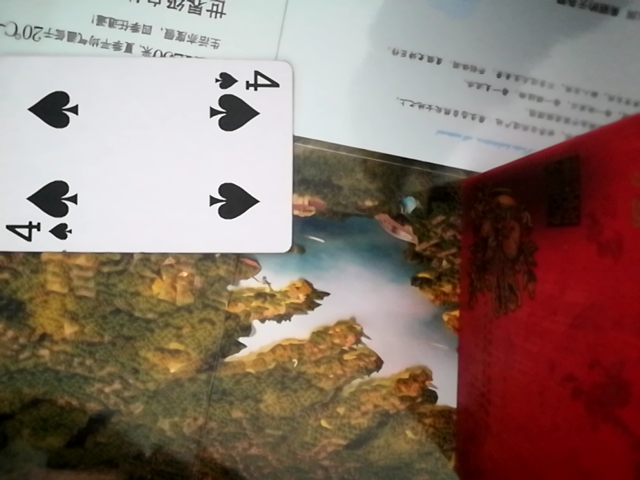ht 4: (0, 41, 301, 257)
